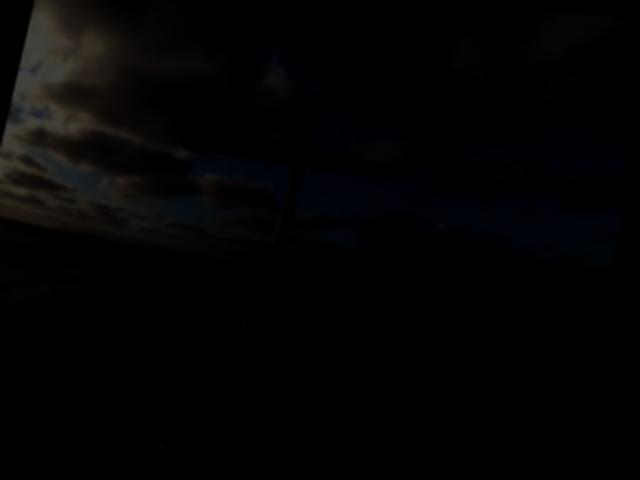uav: (394, 44, 493, 107)
